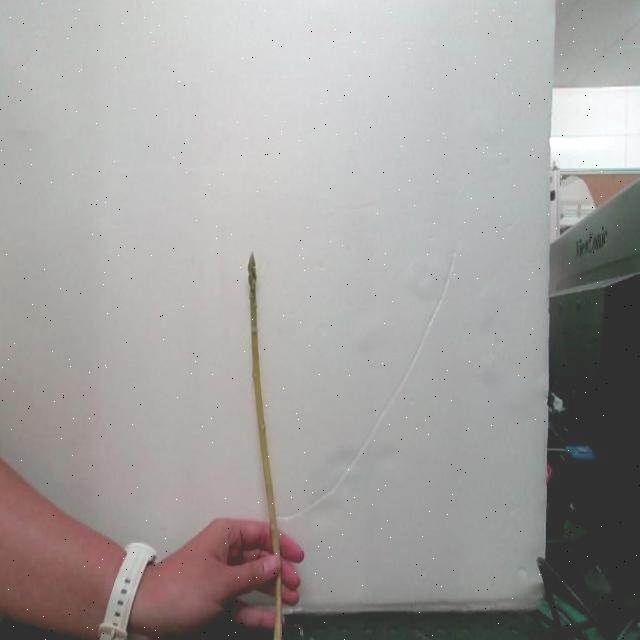aspargus: (248, 257, 283, 559)
